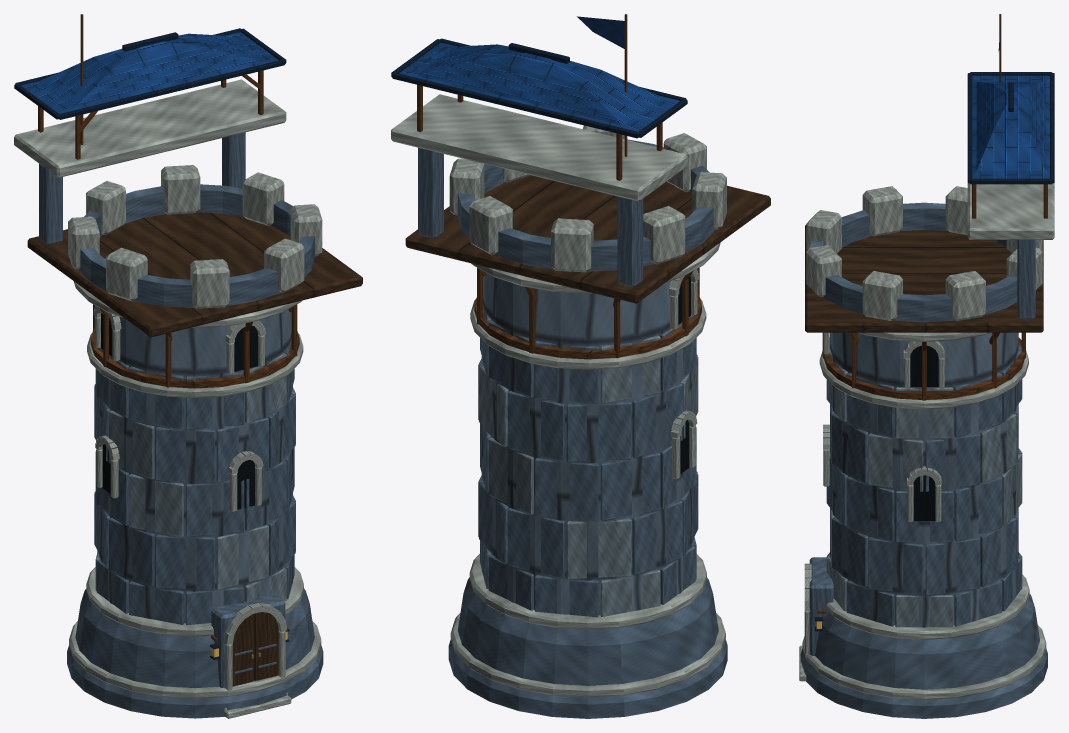
File: watchtower.glb
The picture shows the model from 3 angles, left to right: view 1: azimuth 30°, elevation 25°; view 2: azimuth 150°, elevation 25°; view 3: azimuth 270°, elevation 25°; orthographic projection. The views are drawn at different scales.
Visible parts, largest first — view 1: Architecture; view 2: Architecture, Banners; view 3: Architecture.
Boxes of the visible parts, box(x1,y1,x2,y2) form: Architecture: box(14, 14, 362, 718); Architecture: box(391, 14, 770, 718); Banners: box(577, 16, 624, 48); Architecture: box(799, 14, 1054, 718).
Bounding box in the file's own units: 11.82 × 31.4 × 11.78.
1 material, 1 textured.
